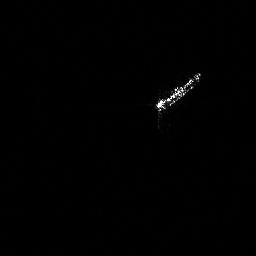ship: (151, 68, 206, 120)
